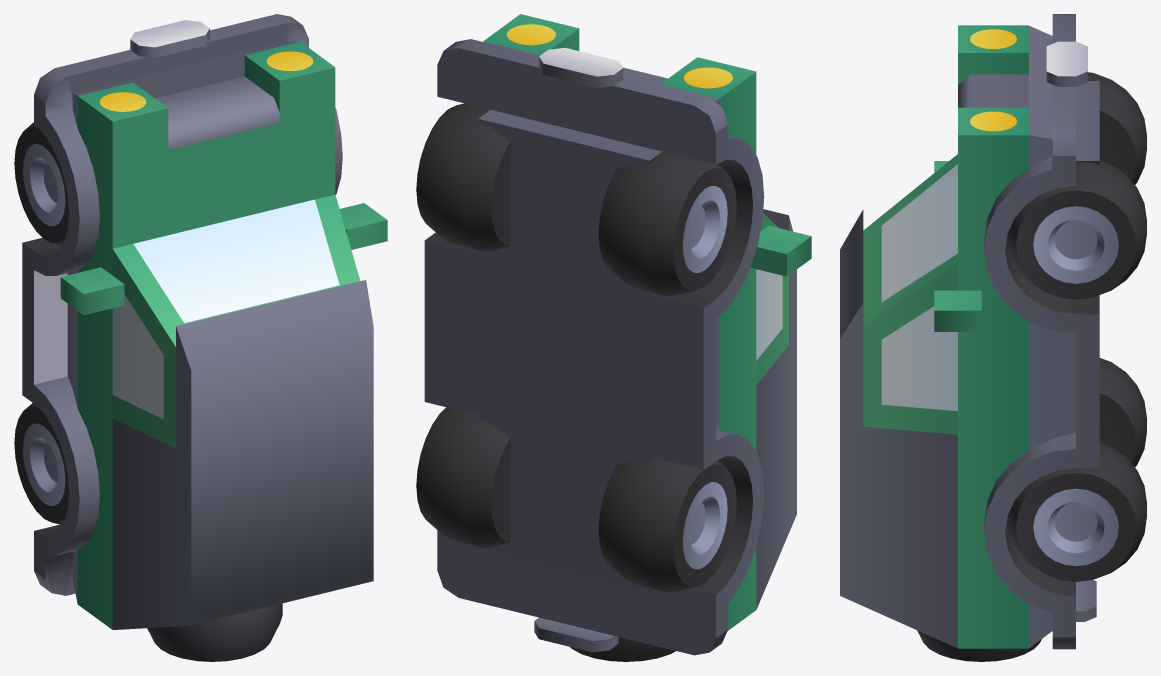
Rendered from suv.glb.
3 views of the same model, side by side, from view 1: azimuth 30°, elevation 25°; view 2: azimuth 150°, elevation 25°; view 3: azimuth 270°, elevation 25° (orthographic). The views are drawn at different scales.
Visible parts, largest first — view 1: body, wheel-back, wheel-front-left, wheel-back-left; view 2: body, wheel-front-left, wheel-back-left, wheel-front-right, wheel-back-right, wheel-back; view 3: body, wheel-front-right, wheel-back-right, wheel-front-left, wheel-back-left, wheel-back.
Part boxes in pixels (x1,y1,x2,y2): body: [22, 14, 387, 629]; wheel-back: [147, 603, 282, 661]; wheel-front-left: [14, 122, 68, 245]; wheel-back-left: [14, 403, 68, 524]; body: [424, 14, 811, 655]; wheel-front-left: [598, 151, 736, 296]; wheel-back-left: [598, 457, 736, 592]; wheel-front-right: [416, 103, 510, 251]; wheel-back-right: [416, 407, 510, 547]; wheel-back: [570, 637, 675, 661]; body: [840, 14, 1099, 649]; wheel-front-right: [1006, 160, 1146, 299]; wheel-back-right: [1006, 442, 1146, 581]; wheel-front-left: [1088, 72, 1146, 184]; wheel-back-left: [1099, 358, 1146, 466]; wheel-back: [917, 630, 1041, 661].
Size of the model in its own units: 1.5 by 2.7 by 1.3.
1 material, 1 textured.
